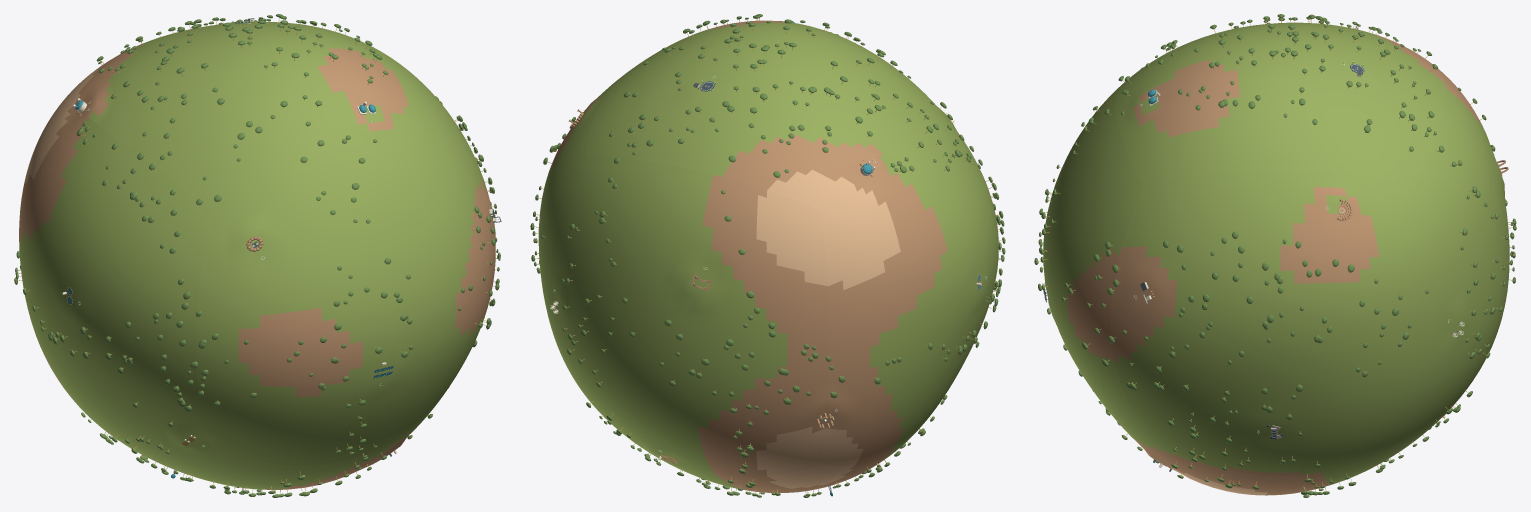
The model's file is lurga_approach.glb.
3 renders of one model, left to right at view 1: azimuth 30°, elevation 25°; view 2: azimuth 150°, elevation 25°; view 3: azimuth 270°, elevation 25°, orthographic.
Visible parts, largest first — view 1: terrain_approach_4, terrain_approach_1, terrain_approach_2, terrain_approach_3, grove_2, terrain_approach_0, grove_1, grove_4, grove_3, grove_0; view 2: terrain_approach_5, terrain_approach_1, terrain_approach_2, terrain_approach_0, grove_2, terrain_approach_3, grove_5, grove_1, grove_3; view 3: terrain_approach_0, terrain_approach_2, terrain_approach_5, terrain_approach_4, terrain_approach_3, grove_0, grove_2, grove_5, grove_4, grove_3.
Part boxes in pixels (x1,y1,x2,y2): terrain_approach_4: [196, 148, 489, 465]; terrain_approach_1: [19, 101, 209, 447]; terrain_approach_2: [64, 21, 443, 207]; terrain_approach_3: [100, 407, 434, 489]; grove_2: [96, 14, 388, 201]; terrain_approach_0: [409, 71, 495, 348]; grove_1: [14, 121, 202, 449]; grove_4: [196, 158, 492, 461]; grove_3: [81, 412, 432, 497]; grove_0: [435, 96, 500, 387]; terrain_approach_5: [551, 156, 829, 476]; terrain_approach_1: [820, 119, 998, 466]; terrain_approach_2: [586, 20, 945, 210]; terrain_approach_0: [538, 78, 619, 386]; grove_2: [609, 14, 946, 177]; terrain_approach_3: [594, 406, 898, 493]; grove_5: [561, 157, 831, 473]; grove_1: [829, 114, 1005, 436]; grove_3: [613, 428, 924, 497]; terrain_approach_0: [1110, 171, 1441, 475]; terrain_approach_2: [1115, 22, 1446, 186]; terrain_approach_5: [1415, 70, 1509, 430]; terrain_approach_4: [1043, 85, 1143, 432]; terrain_approach_3: [1123, 425, 1433, 495]; grove_0: [1107, 231, 1428, 482]; grove_2: [1118, 14, 1438, 151]; grove_5: [1434, 87, 1516, 427]; grove_4: [1034, 106, 1112, 415]; grove_3: [1117, 422, 1431, 497].
Bounding box in the file's own units: 503 × 515 × 506.
